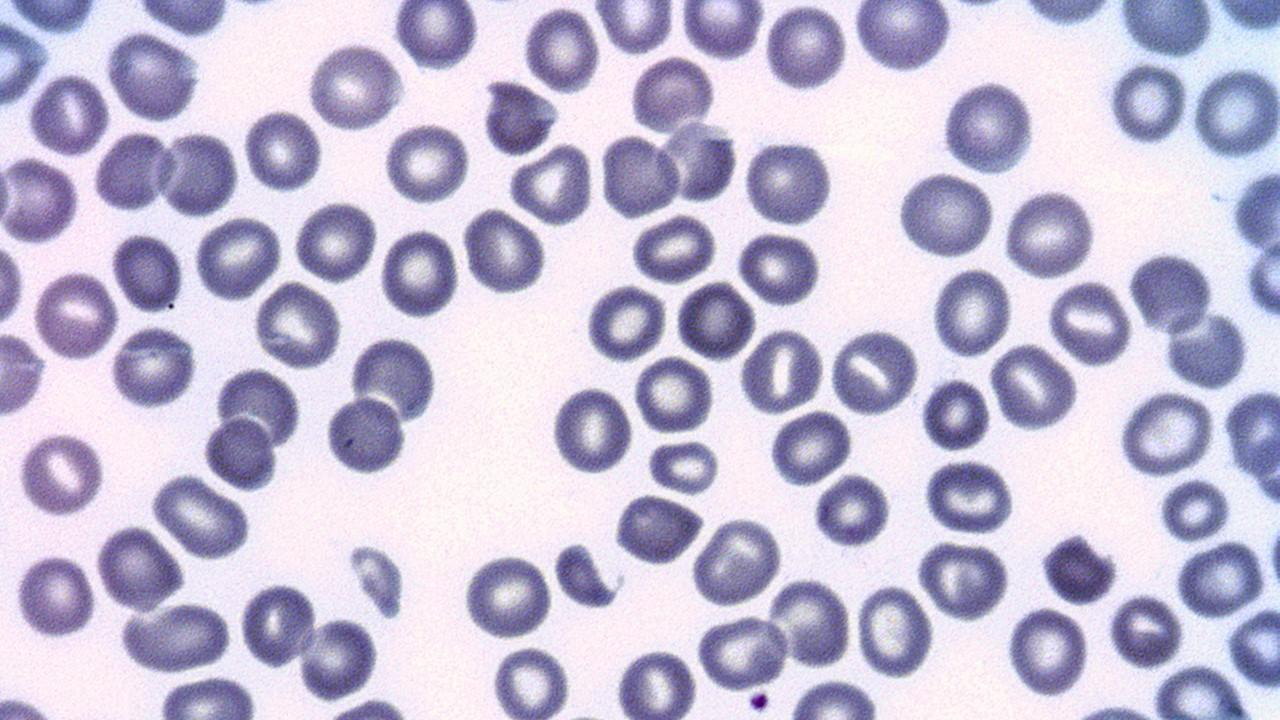RBC: (104, 29, 204, 124), (940, 78, 1037, 174), (894, 170, 996, 261), (149, 472, 254, 558), (1002, 188, 1098, 282), (1117, 388, 1215, 479), (305, 42, 401, 133), (688, 516, 782, 608), (1190, 64, 1278, 162), (741, 137, 835, 228), (828, 326, 920, 417), (16, 429, 106, 520), (460, 552, 554, 639), (461, 204, 548, 298), (1005, 604, 1091, 699), (95, 524, 185, 614), (193, 213, 282, 304), (916, 537, 1011, 622), (125, 600, 234, 674), (854, 582, 936, 680), (252, 280, 341, 370), (1047, 277, 1135, 368), (930, 264, 1012, 361), (32, 268, 118, 360), (550, 383, 634, 477), (769, 575, 852, 670), (382, 120, 472, 207), (990, 342, 1077, 432), (1126, 248, 1214, 336), (213, 361, 303, 447), (1160, 306, 1252, 390), (0, 153, 81, 248), (380, 225, 460, 321), (1126, 248, 1214, 335), (155, 127, 239, 218), (764, 2, 848, 93), (738, 327, 824, 415), (108, 326, 197, 411), (852, 0, 954, 74), (695, 612, 788, 693), (292, 199, 378, 286), (507, 142, 594, 228), (627, 53, 717, 136), (598, 132, 682, 220), (13, 552, 97, 640), (1107, 58, 1187, 150), (922, 458, 1016, 536), (28, 70, 111, 158), (1175, 538, 1265, 618), (238, 579, 317, 670), (523, 4, 602, 95), (242, 106, 323, 194), (632, 353, 716, 437), (321, 393, 406, 476), (657, 118, 738, 205), (297, 614, 377, 702), (92, 128, 172, 216), (610, 494, 704, 568), (734, 230, 823, 308), (674, 278, 756, 362), (811, 469, 892, 551), (629, 211, 719, 284), (584, 282, 666, 362), (490, 641, 574, 719), (768, 408, 852, 486), (1107, 590, 1185, 672), (111, 229, 185, 315), (393, 0, 480, 73), (1036, 531, 1120, 606), (612, 646, 699, 718), (483, 78, 560, 156), (202, 414, 278, 492), (920, 373, 992, 454), (1151, 662, 1251, 720), (1114, 1, 1214, 58), (1224, 386, 1280, 482), (680, 1, 766, 63), (1156, 476, 1232, 543), (550, 540, 622, 610), (1228, 163, 1280, 258), (1224, 603, 1280, 689), (1, 324, 50, 420), (0, 14, 51, 106), (595, 1, 675, 57), (644, 438, 722, 494), (155, 676, 259, 718), (786, 676, 881, 720), (131, 0, 233, 38), (1008, 1, 1120, 31), (1244, 235, 1280, 322), (5, 0, 107, 30), (1200, 0, 1280, 33), (0, 241, 26, 333)
